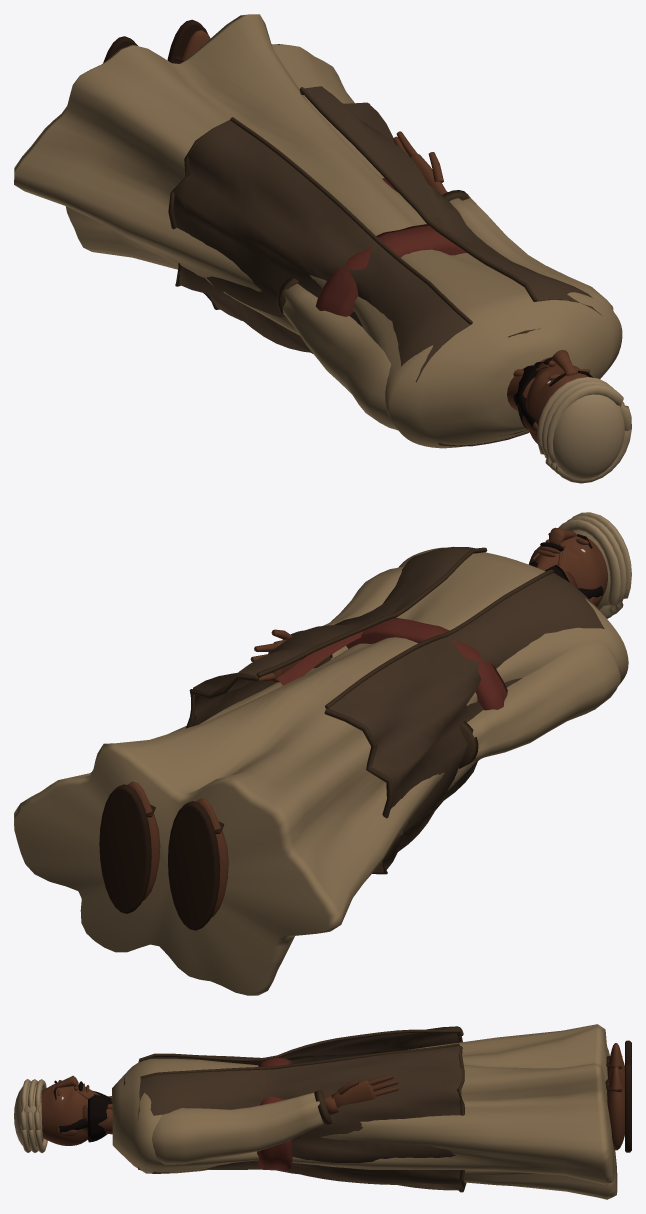
Rendered from SM_V3_Pilgrim_Man_Heavy.obj.
3 views of the same model, one above another, from view 1: azimuth 30°, elevation 25°; view 2: azimuth 150°, elevation 25°; view 3: azimuth 270°, elevation 25° (orthographic). The views are drawn at different scales.
Visible parts, largest first — view 1: Tunic, Mantle, SleeveR, TurbanCrown, Sash, SleeveL, TurbanBand2, MantleEdge-1, MantleEdge1, Head, SandalSoleL, TurbanBand0 (+1 smaller); view 2: Tunic, Mantle, SleeveR, SandalSoleL, SandalSoleR, Sash, Head, MantleHem, SleeveL, MantleEdge-1, TurbanBand0, MantleEdge1 (+5 smaller); view 3: Tunic, Mantle, SleeveL, Head, MantleEdge1, Sash, FootL, MantleEdge-1, Beard, TurbanCrown, PalmL, SandalSoleL (+7 smaller).
Part boxes in pixels (bbox=[...]): Tunic: bbox=[14, 14, 622, 448]; Mantle: bbox=[173, 86, 602, 446]; SleeveR: bbox=[282, 283, 397, 430]; TurbanCrown: bbox=[553, 394, 624, 479]; Sash: bbox=[315, 224, 466, 316]; SleeveL: bbox=[449, 195, 613, 310]; TurbanBand2: bbox=[546, 384, 631, 483]; MantleEdge-1: bbox=[299, 87, 537, 302]; MantleEdge1: bbox=[230, 117, 472, 324]; Head: bbox=[526, 363, 588, 443]; SandalSoleL: bbox=[167, 19, 207, 63]; TurbanBand0: bbox=[537, 377, 609, 469]; Tunic: bbox=[14, 547, 628, 995]; Mantle: bbox=[193, 546, 604, 869]; SleeveR: bbox=[467, 639, 620, 761]; SandalSoleL: bbox=[99, 784, 151, 913]; SandalSoleR: bbox=[168, 801, 220, 930]; Sash: bbox=[346, 617, 507, 762]; Head: bbox=[528, 535, 607, 606]; MantleHem: bbox=[185, 672, 393, 874]; SleeveL: bbox=[323, 567, 403, 659]; MantleEdge-1: bbox=[256, 547, 487, 677]; TurbanBand0: bbox=[558, 519, 620, 618]; MantleEdge1: bbox=[325, 569, 554, 708]; Tunic: bbox=[112, 1024, 617, 1199]; Mantle: bbox=[137, 1026, 461, 1190]; SleeveL: bbox=[151, 1092, 324, 1164]; Head: bbox=[41, 1083, 100, 1145]; MantleEdge1: bbox=[139, 1029, 460, 1061]; Sash: bbox=[257, 1057, 292, 1171]; FootL: bbox=[607, 1066, 624, 1150]; MantleEdge-1: bbox=[140, 1043, 459, 1078]; Beard: bbox=[87, 1091, 112, 1142]; TurbanCrown: bbox=[14, 1082, 43, 1150]; PalmL: bbox=[331, 1080, 375, 1107]; SandalSoleL: bbox=[625, 1063, 631, 1152].
Bounding box in the file's own units: 76.65 × 49.05 × 182.
